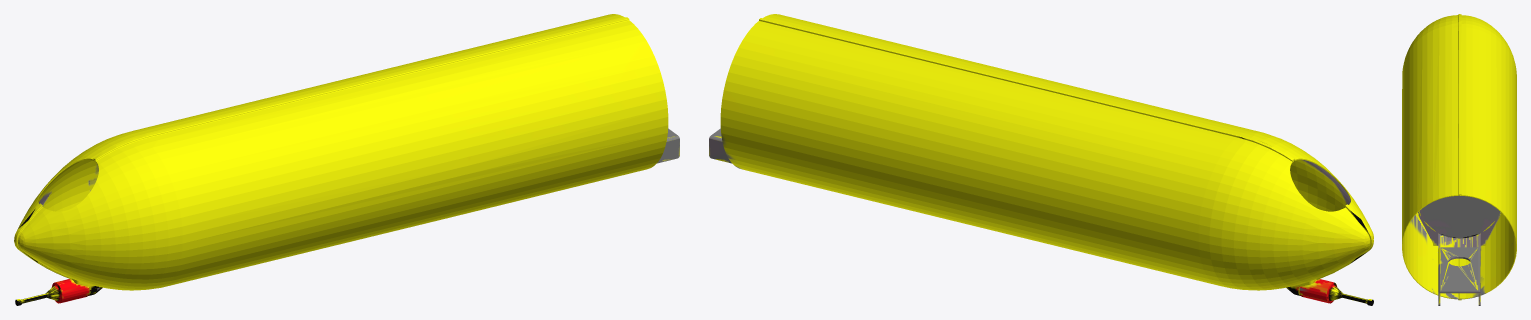
Rendered from lower_hull_painted.obj.
The picture shows the model from 3 angles, left to right: view 1: azimuth 30°, elevation 25°; view 2: azimuth 150°, elevation 25°; view 3: azimuth 270°, elevation 25°; orthographic projection. The views are drawn at different scales.
Visible parts, largest first — view 1: hull_bottom.027; view 2: hull_bottom.027; view 3: hull_bottom.027.
Boxes of the visible parts, x1=… form: hull_bottom.027: x1=14, y1=14, x2=679, y2=305; hull_bottom.027: x1=709, y1=14, x2=1373, y2=305; hull_bottom.027: x1=1402, y1=14, x2=1516, y2=305.
Size of the model in its own units: 1.45 by 0.3147 by 0.308.
